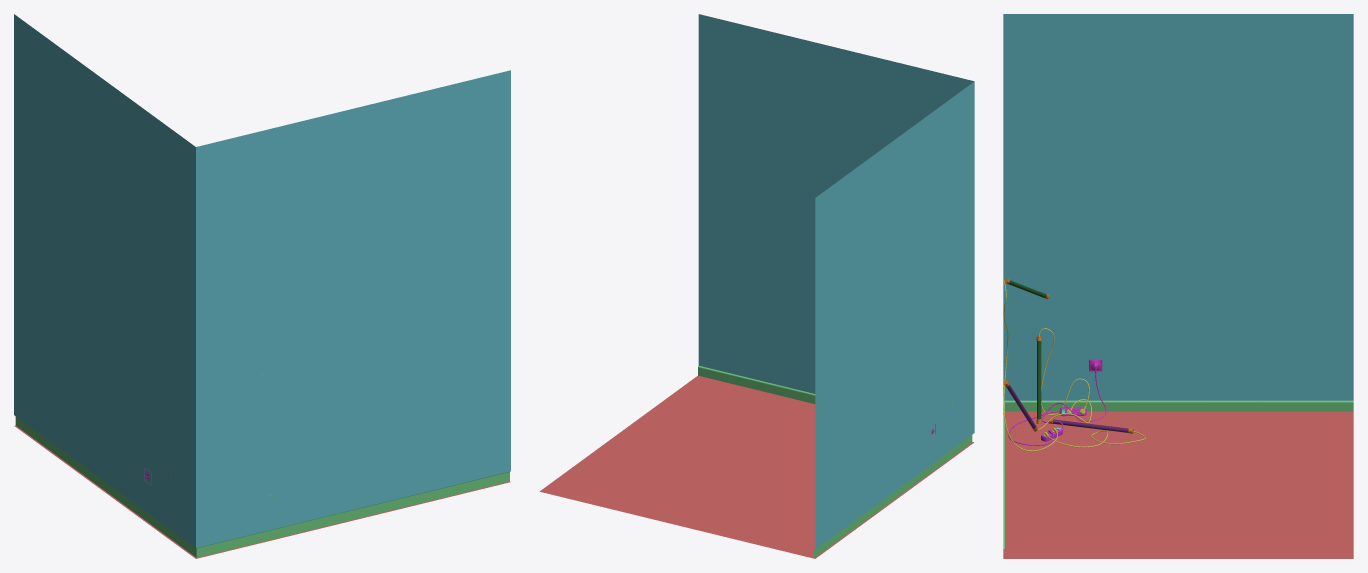
The model's file is Mod.fbx.
3 views of the same model, side by side, from view 1: azimuth 30°, elevation 25°; view 2: azimuth 150°, elevation 25°; view 3: azimuth 270°, elevation 25° (orthographic). The views are drawn at different scales.
Parts seen in each view (by area): view 1: Murs, Plinthes_1, Plinthes, Sol; view 2: Murs, Sol, Plinthes, Plinthes_1; view 3: Murs, Sol, Plinthes.
Boxes of the visible parts, x1,y1,x2,y2 form: Murs: (14, 14, 510, 547); Plinthes_1: (196, 471, 509, 557); Plinthes: (15, 416, 196, 557); Sol: (14, 425, 510, 558); Murs: (698, 14, 974, 549); Sol: (540, 375, 973, 558); Plinthes: (814, 435, 972, 558); Plinthes_1: (698, 365, 815, 403); Murs: (1003, 14, 1353, 400); Sol: (1003, 411, 1353, 558); Plinthes: (1004, 400, 1353, 411).
Bounding box in the file's own units: 201 × 250 × 200.
